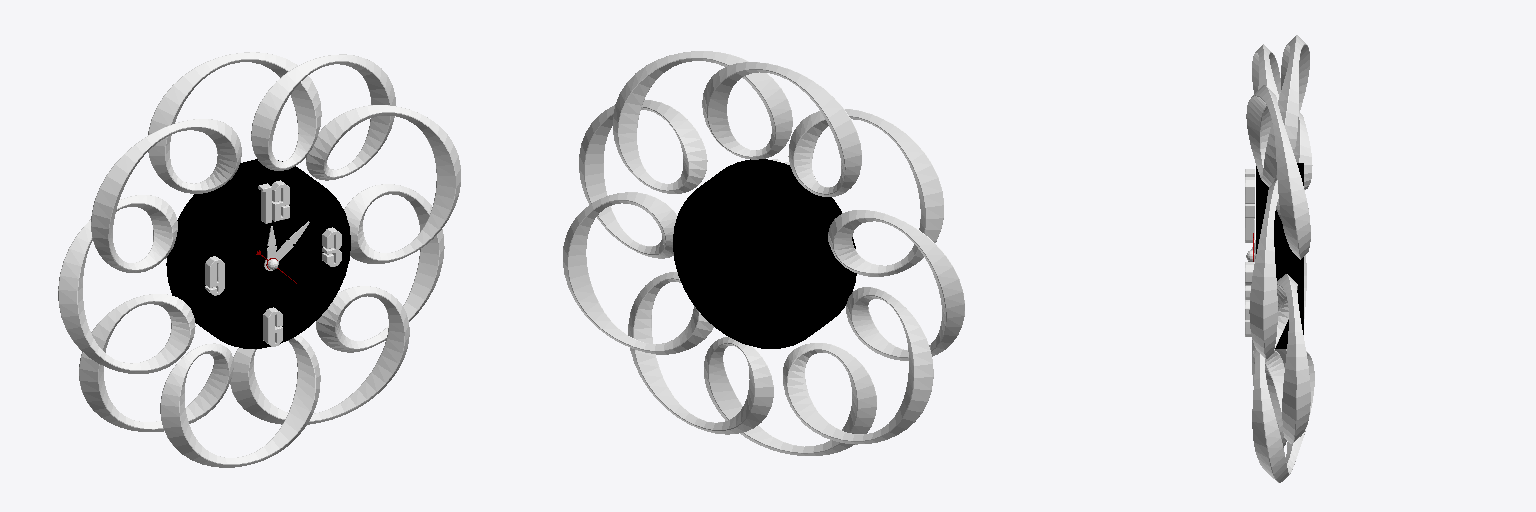
The model's file is clock01_DEFAULT.obj.
3 renders of one model, left to right at view 1: azimuth 30°, elevation 25°; view 2: azimuth 150°, elevation 25°; view 3: azimuth 270°, elevation 25°, orthographic.
Visible parts, largest first — view 1: clock01, clock01_face, clock01_digits; view 2: clock01, clock01_face; view 3: clock01, clock01_face, clock01_digits.
Boxes of the visible parts, x1,y1,x2,y2 form: clock01: [58, 52, 460, 467]; clock01_face: [166, 159, 350, 348]; clock01_digits: [205, 180, 341, 346]; clock01: [563, 51, 964, 455]; clock01_face: [673, 159, 856, 348]; clock01: [1246, 35, 1314, 482]; clock01_face: [1256, 163, 1303, 348]; clock01_digits: [1245, 169, 1254, 336].
Size of the model in its own units: 16.44 by 15.96 by 2.52.